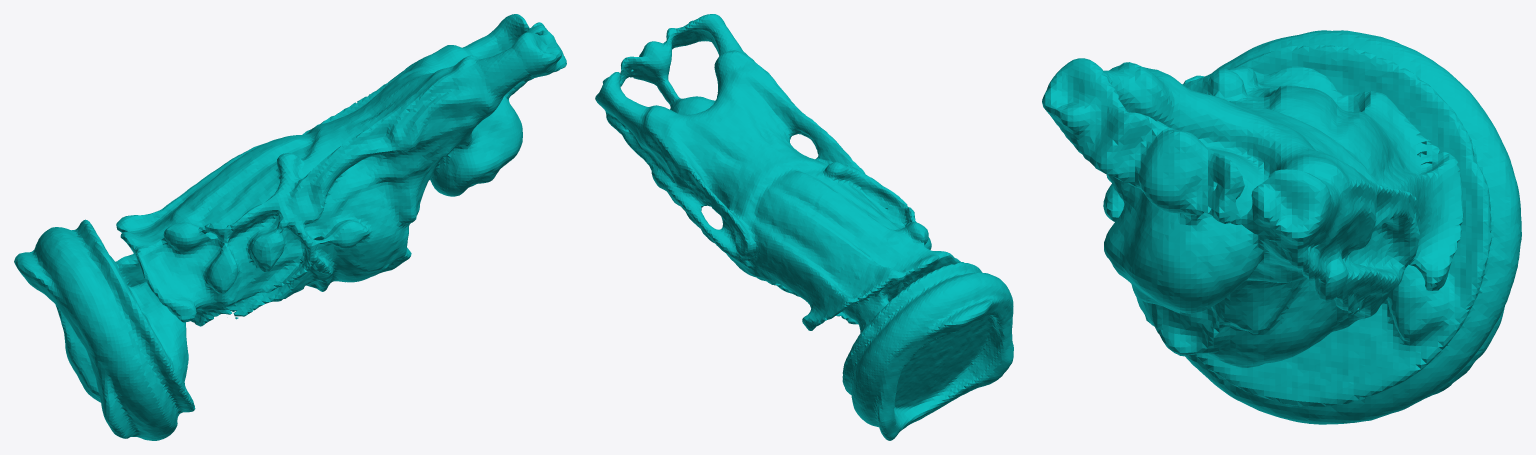
The picture shows the model from 3 angles, left to right: view 1: azimuth 30°, elevation 25°; view 2: azimuth 150°, elevation 25°; view 3: azimuth 270°, elevation 25°; orthographic projection. The views are drawn at different scales.
Size of the model in its own units: 0.9833 by 0.7026 by 0.5033.
